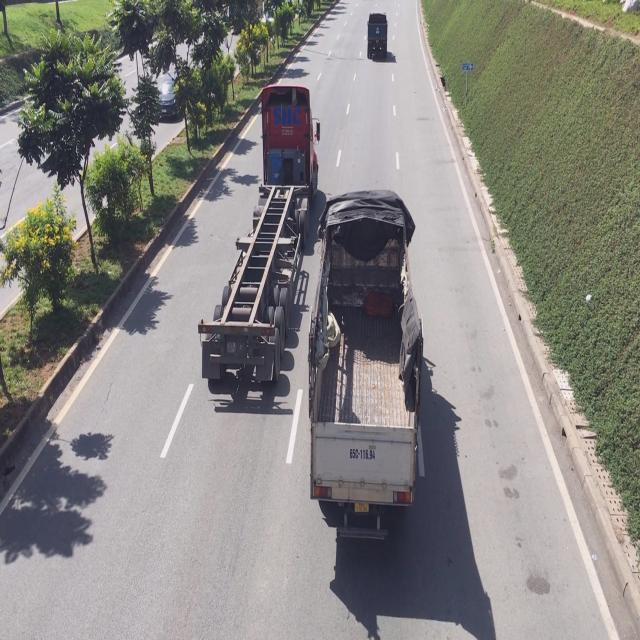truck: (310, 186, 422, 537), (197, 82, 319, 391), (367, 8, 390, 64)
